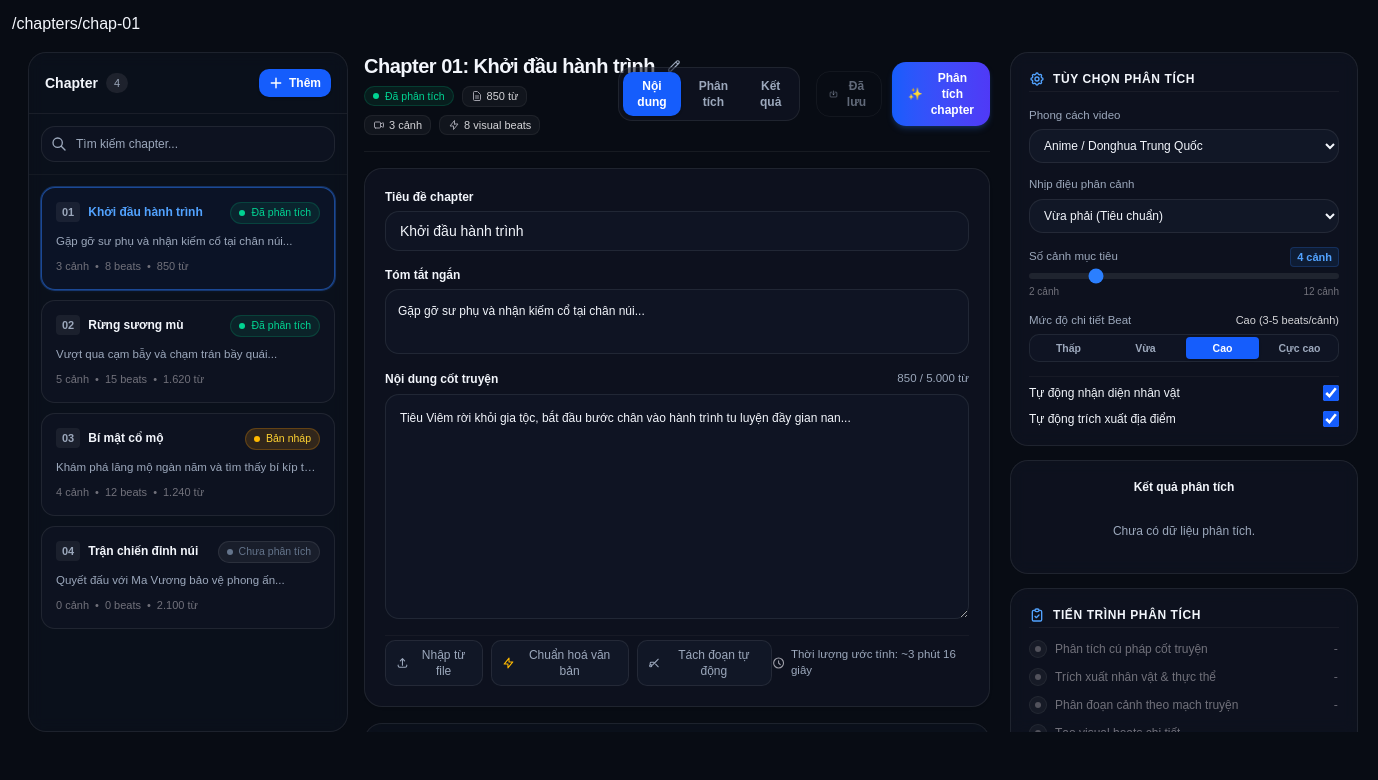
Test: ChapterPage › preserves updated word count when analysis completes asynchronously
The image size is (1378, 780).
Click Phân tích chapter on Chapter 01
Click the button "✨ Phân tích chapter" at (941, 94), box 892,62 -> 990,126
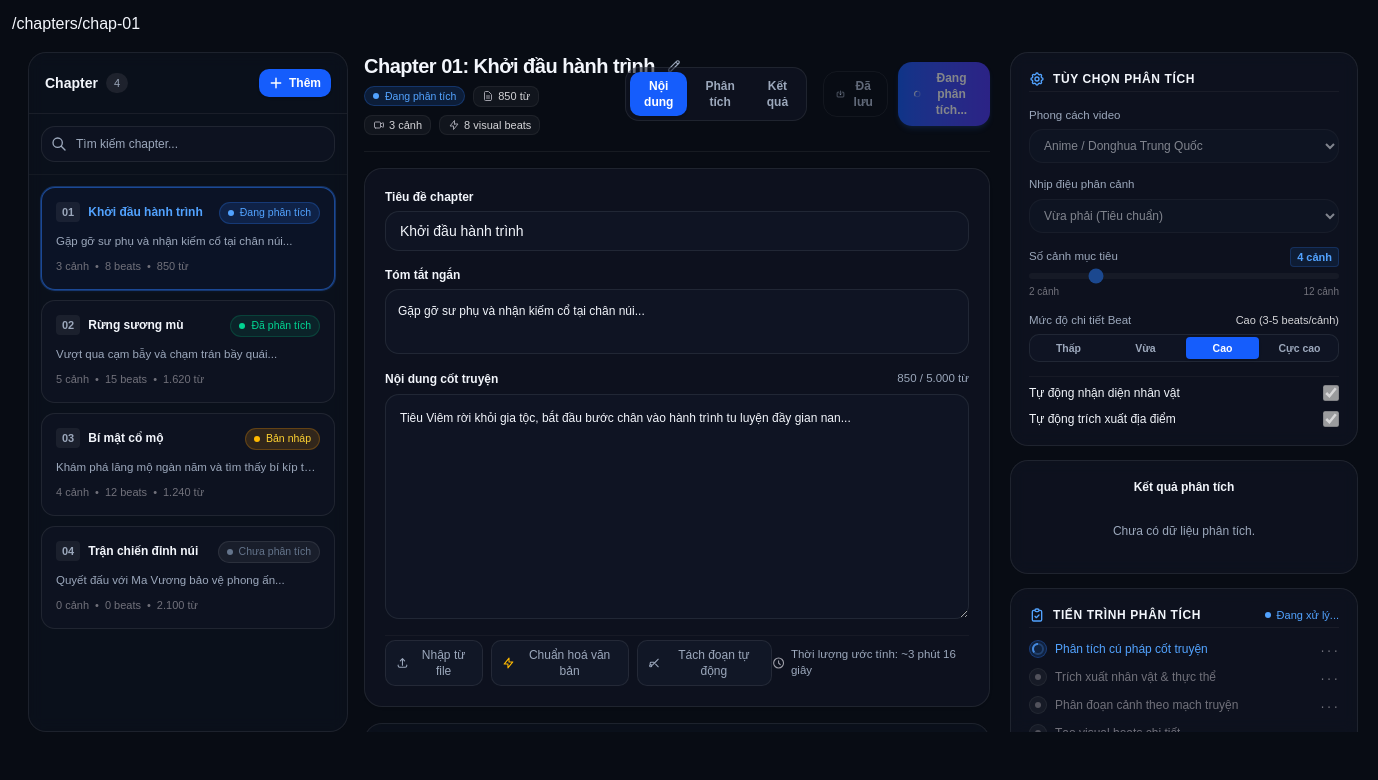
Replace the text in the text box with placeholder "Nhập hoặc dán toàn bộ nội dung cốt truyện của chapter vào đây..." below "Nội dung cốt truyện" with "Một hai ba bốn năm sáu bảy." at (677, 506), box 385,394 -> 969,619
Wait 3500 ms
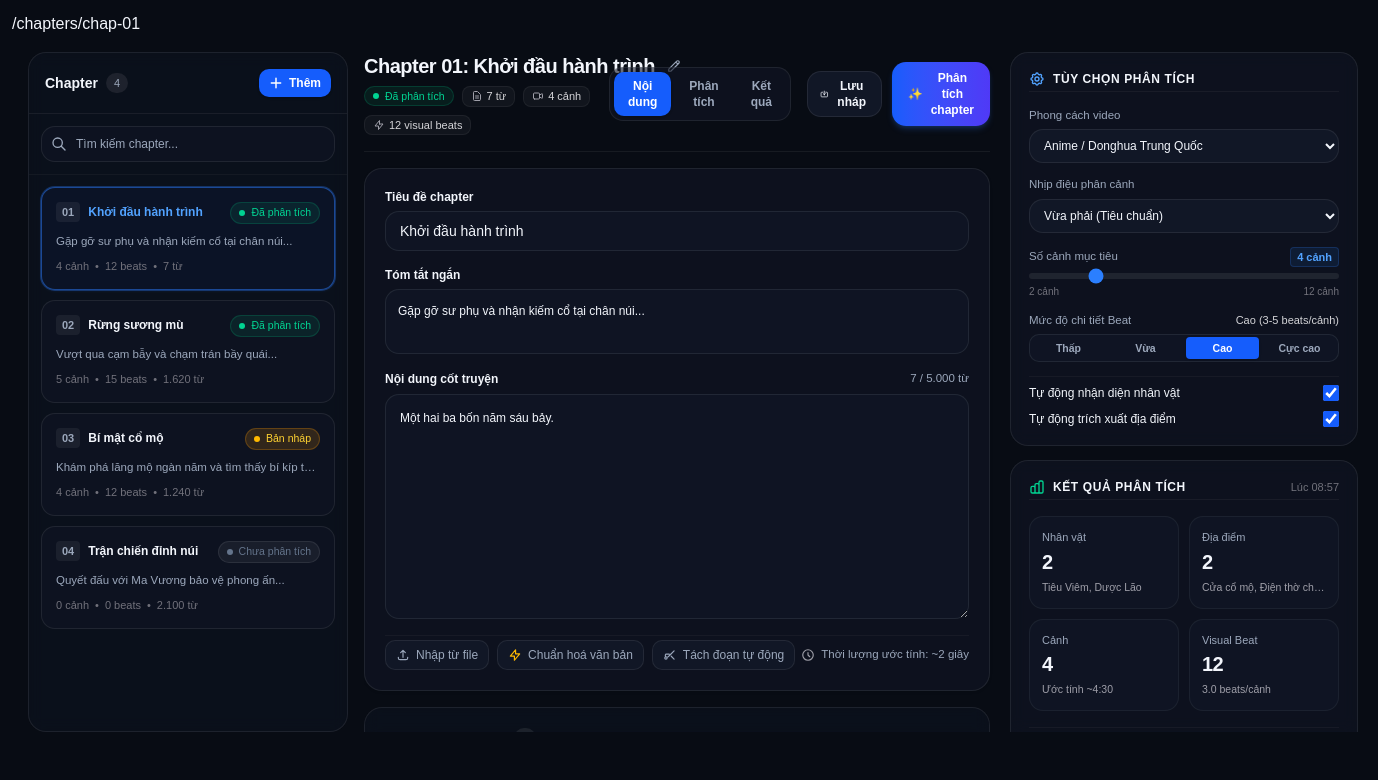
Result: the text "7 / 5.000 từ" is shown at 910,370 -> 969,388
